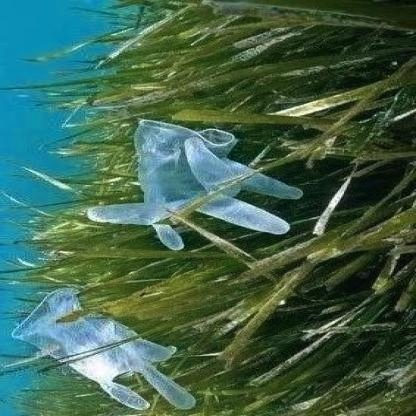glove: (81, 114, 309, 252), (4, 277, 204, 415)
